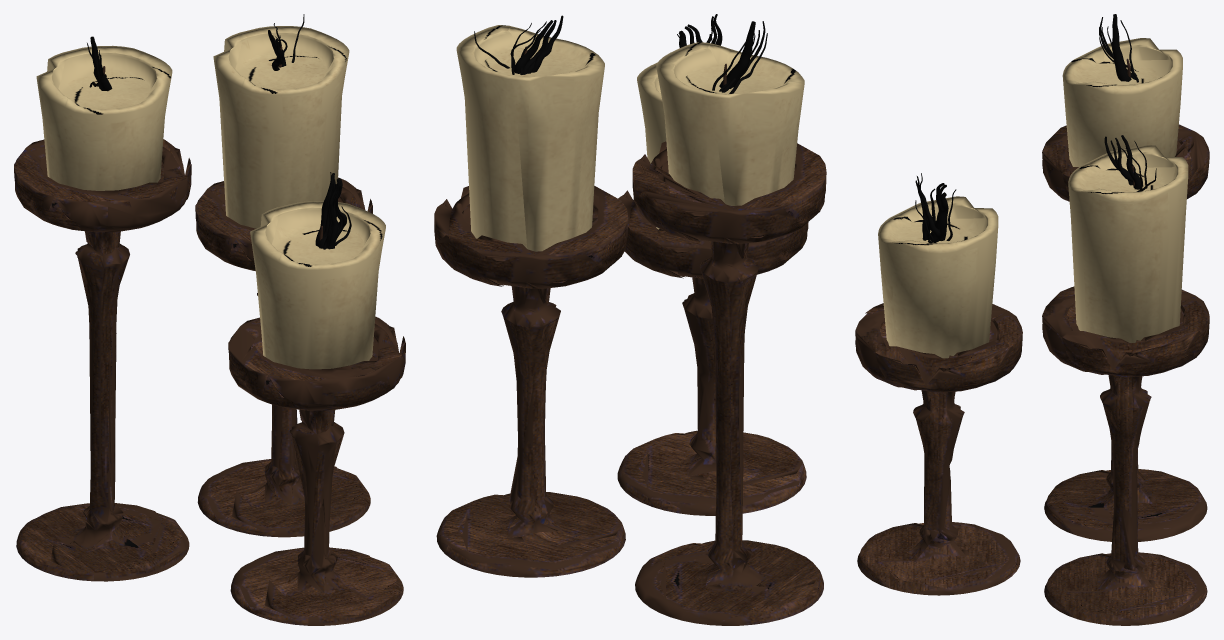
The model's file is candle 1.obj.
3 views of the same model, side by side, from view 1: azimuth 30°, elevation 25°; view 2: azimuth 150°, elevation 25°; view 3: azimuth 270°, elevation 25° (orthographic). The views are drawn at different scales.
Parts seen in each view (by area): view 1: directionalLight2; view 2: directionalLight2; view 3: directionalLight2.
Boxes of the visible parts, x1=… form: directionalLight2: x1=14, y1=14, x2=405, y2=625; directionalLight2: x1=434, y1=14, x2=826, y2=625; directionalLight2: x1=855, y1=14, x2=1209, y2=625.
Bounding box in the file's own units: 4.11 × 6.03 × 3.99.
Materials: 6 (3 with a texture image).
